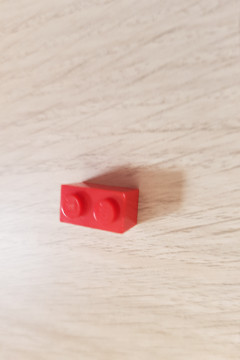1x2 red: (58, 180, 142, 233)
